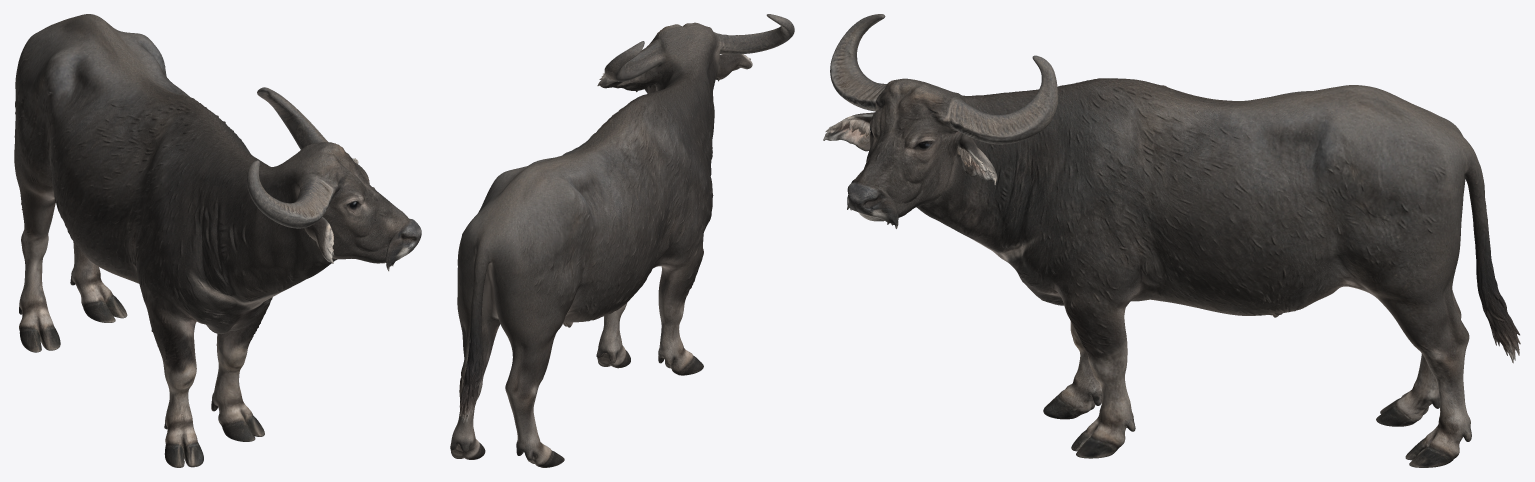
File: original-buffalo.glb
3 views of the same model, side by side, from view 1: azimuth 30°, elevation 25°; view 2: azimuth 150°, elevation 25°; view 3: azimuth 270°, elevation 25° (orthographic). The views are drawn at different scales.
Visible parts, largest first — view 1: Mesh_0; view 2: Mesh_0; view 3: Mesh_0.
Boxes of the visible parts, x1=… form: Mesh_0: x1=14, y1=14, x2=421, y2=467; Mesh_0: x1=450, y1=14, x2=794, y2=467; Mesh_0: x1=823, y1=14, x2=1520, y2=467.
Bounding box in the file's own units: 0.5789 × 1.18 × 1.9.
1 material, 1 textured.
